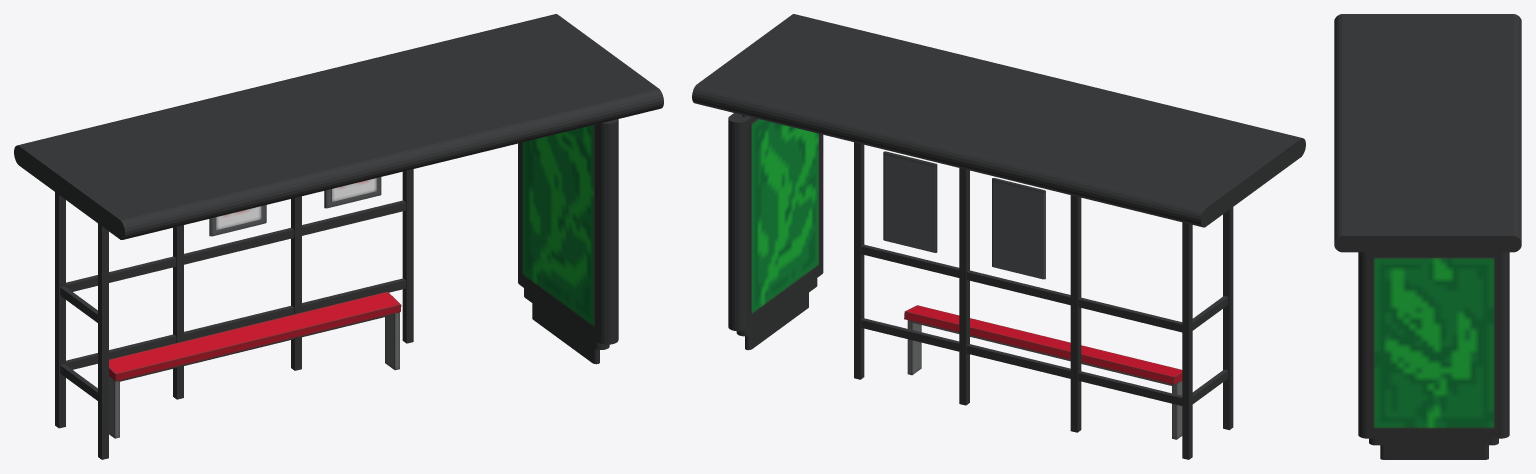
3 views of the same model, side by side, from view 1: azimuth 30°, elevation 25°; view 2: azimuth 150°, elevation 25°; view 3: azimuth 270°, elevation 25° (orthographic). The views are drawn at different scales.
Visible parts, largest first — view 1: roof, big poster, bench, big-sign, pole_8, pole_7, pole_4, pole, pole_3, pole_1, pole_2, big-sign3 (+1 smaller); view 2: roof, big poster, big-sign, bench, poster_1, poster, pole_8, pole_7, pole_1, pole, pole_2, pole_3 (+3 smaller); view 3: roof, big poster_1, big-sign, big-sign3, big-sign2.
Boxes of the visible parts, box(x1,y1,x2,y2) form: roof: box(14, 14, 663, 239); big poster: box(522, 125, 594, 326); bench: box(109, 291, 401, 438); big-sign: box(518, 119, 618, 344); pole_8: box(66, 200, 405, 291); pole_7: box(66, 278, 405, 369); pole_4: box(98, 223, 108, 459); pole: box(55, 192, 65, 428); pole_3: box(402, 169, 413, 343); pole_1: box(173, 225, 183, 399); pole_2: box(291, 196, 301, 370); big-sign3: box(532, 303, 599, 364); roof: box(692, 14, 1305, 227); big poster: box(750, 119, 818, 314); big-sign: box(728, 113, 823, 331); bench: box(904, 305, 1182, 439); poster_1: box(883, 151, 937, 252); poster: box(992, 178, 1045, 279); pole_8: box(861, 244, 1182, 332); pole_7: box(861, 318, 1182, 405); pole_1: box(1070, 195, 1081, 432); pole: box(1182, 222, 1192, 459); pole_2: box(959, 168, 969, 405); pole_3: box(854, 142, 864, 379); roof: box(1334, 14, 1521, 252); big poster_1: box(1373, 257, 1494, 428); big-sign: box(1358, 252, 1509, 438); big-sign3: box(1380, 445, 1488, 459); big-sign2: box(1369, 438, 1498, 445).
Size of the model in its own units: 542 by 272 by 194.
Materials: 1 (1 with a texture image).
